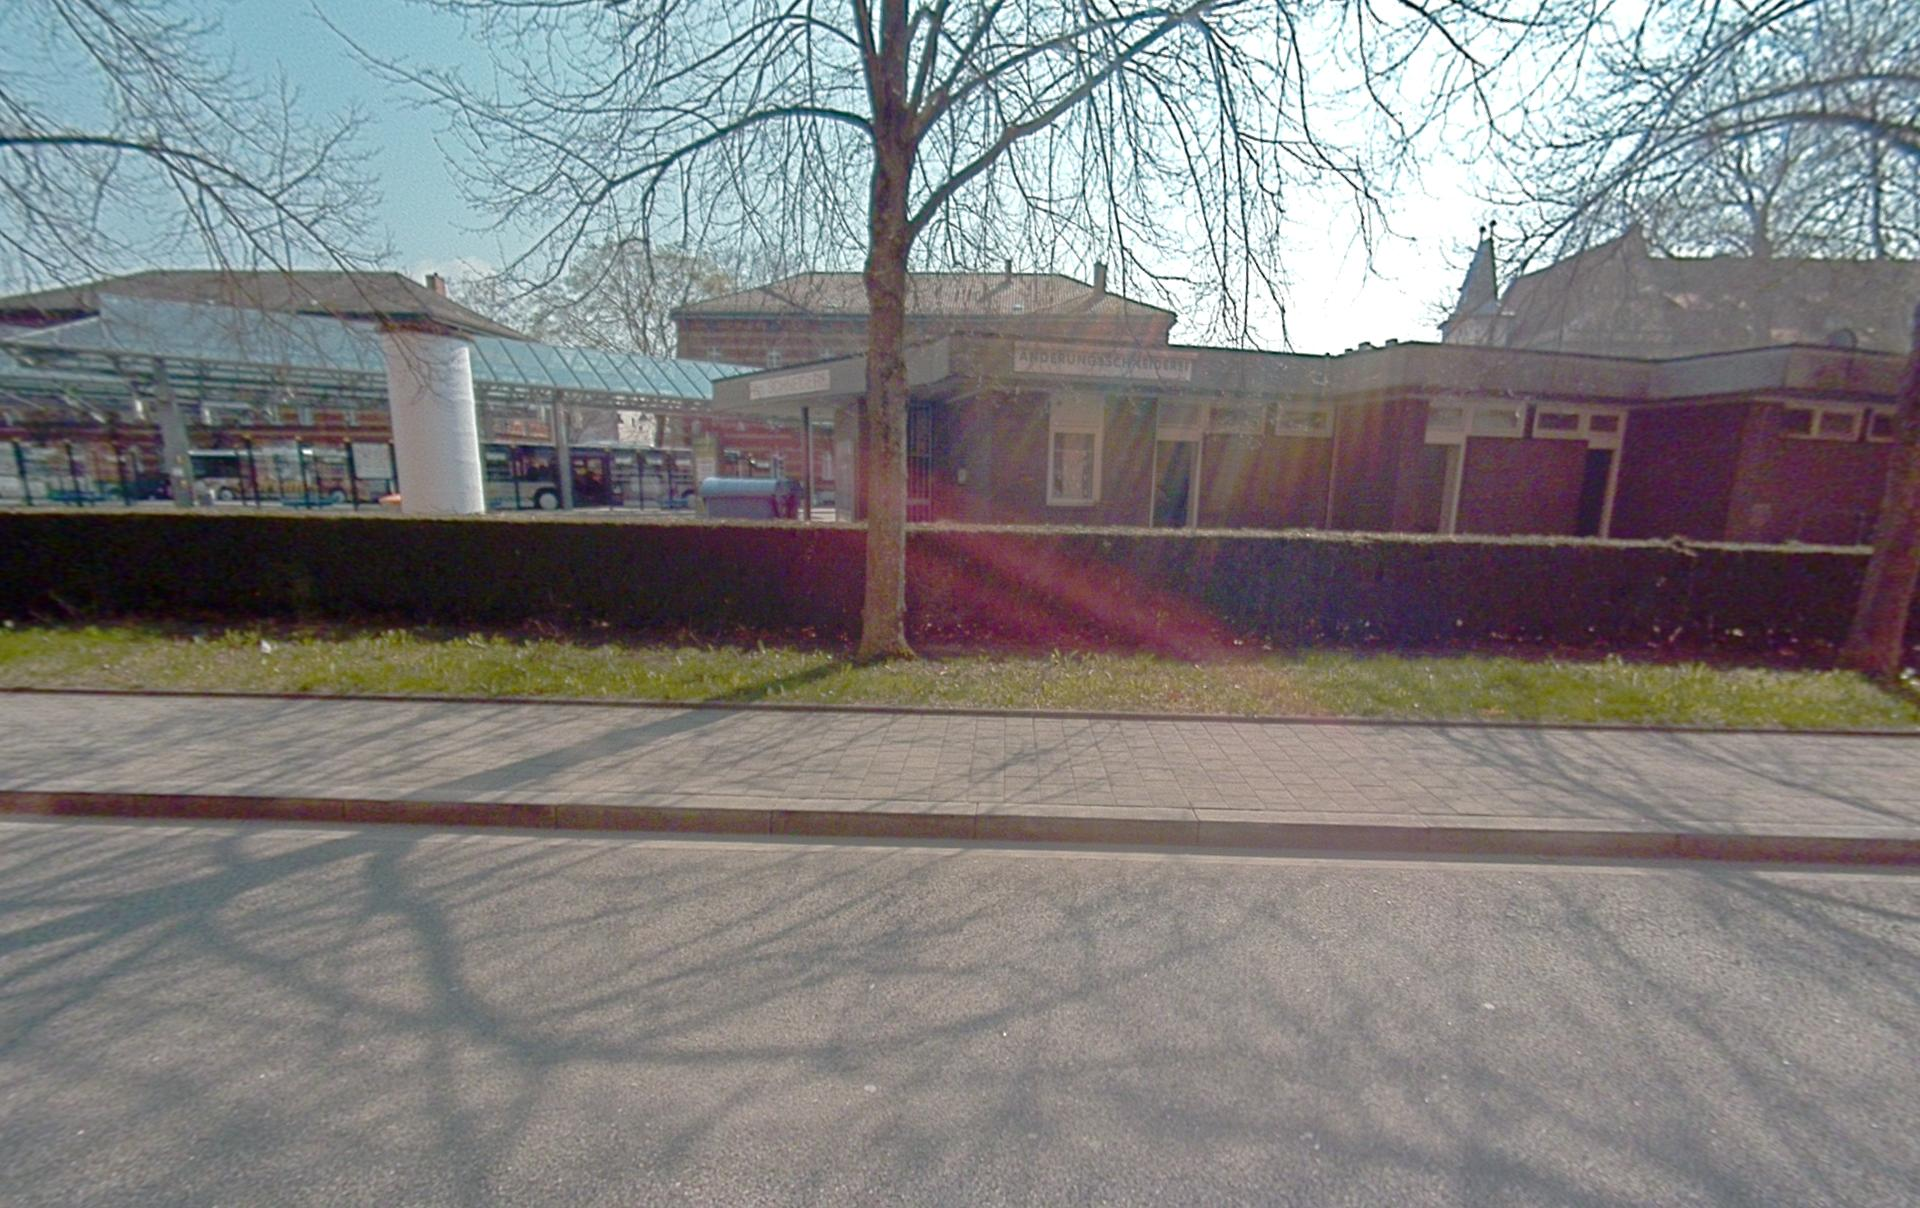car: (690, 476, 804, 520)
